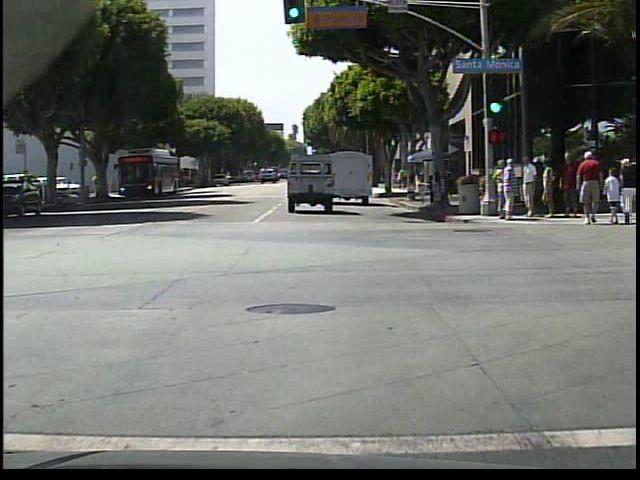person: (577, 146, 606, 232), (557, 150, 578, 218), (500, 158, 521, 224), (521, 158, 542, 222), (619, 155, 637, 226), (540, 160, 559, 223), (605, 165, 624, 225), (496, 161, 508, 222), (98, 176, 109, 201), (92, 174, 102, 198), (397, 170, 405, 193)
